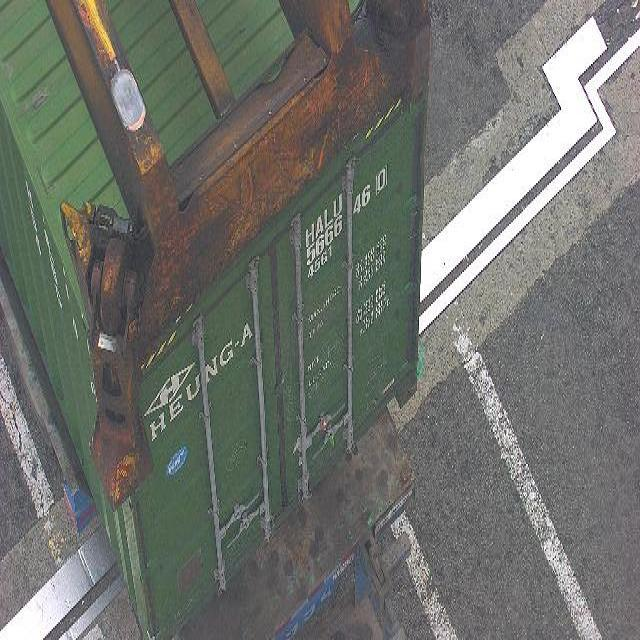container_number: (302, 150, 390, 264)
